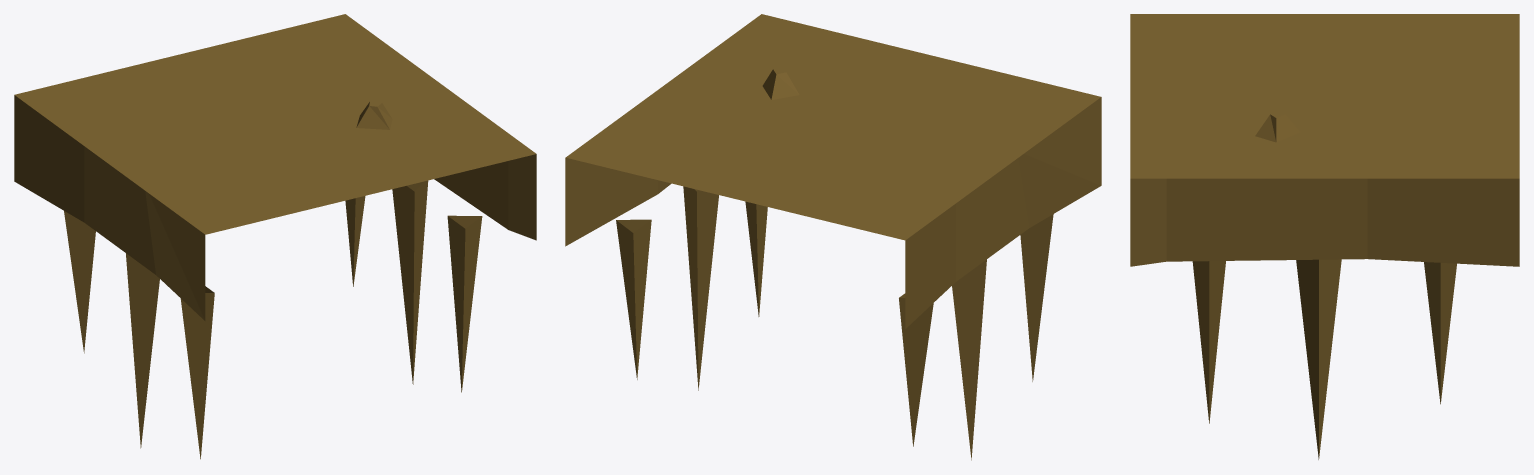
Rendered from obj_bridge_3_0.obj.
3 renders of one model, left to right at view 1: azimuth 30°, elevation 25°; view 2: azimuth 150°, elevation 25°; view 3: azimuth 270°, elevation 25°, orthographic. The views are drawn at different scales.
Size of the model in its own units: 1 by 0.8984 by 1.
